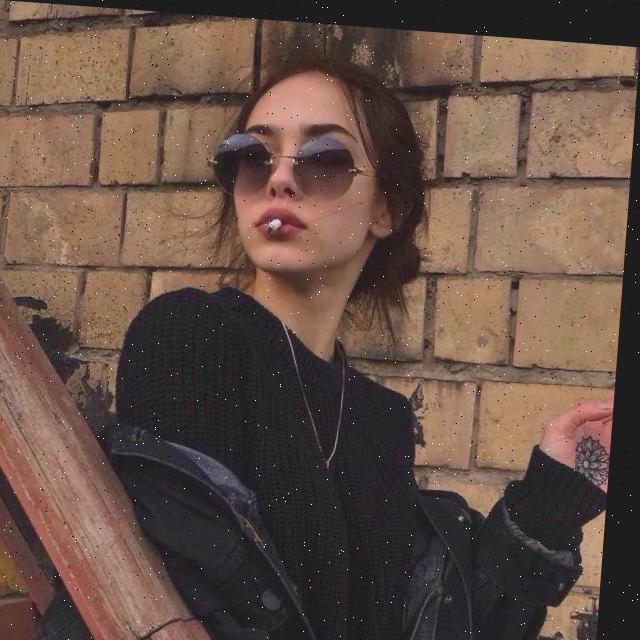cigarette: (268, 213, 285, 231)
